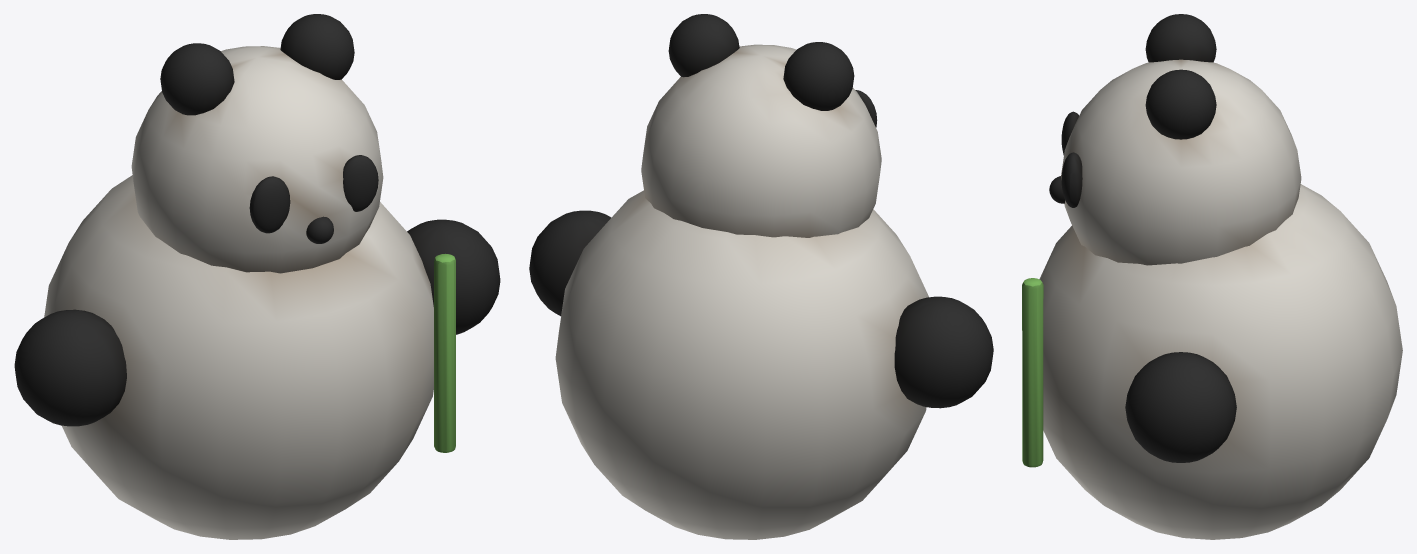
The picture shows the model from 3 angles, left to right: view 1: azimuth 30°, elevation 25°; view 2: azimuth 150°, elevation 25°; view 3: azimuth 270°, elevation 25°; orthographic projection. The views are drawn at different scales.
Parts seen in each view (by area): view 1: landmark_5d329268; view 2: landmark_5d329268; view 3: landmark_5d329268.
Part boxes in pixels (x1,y1,x2,y2): landmark_5d329268: (14,14,500,539); landmark_5d329268: (529,14,993,539); landmark_5d329268: (1022,14,1402,539).
Bounding box in the file's own units: 4.08 × 4.16 × 3.
